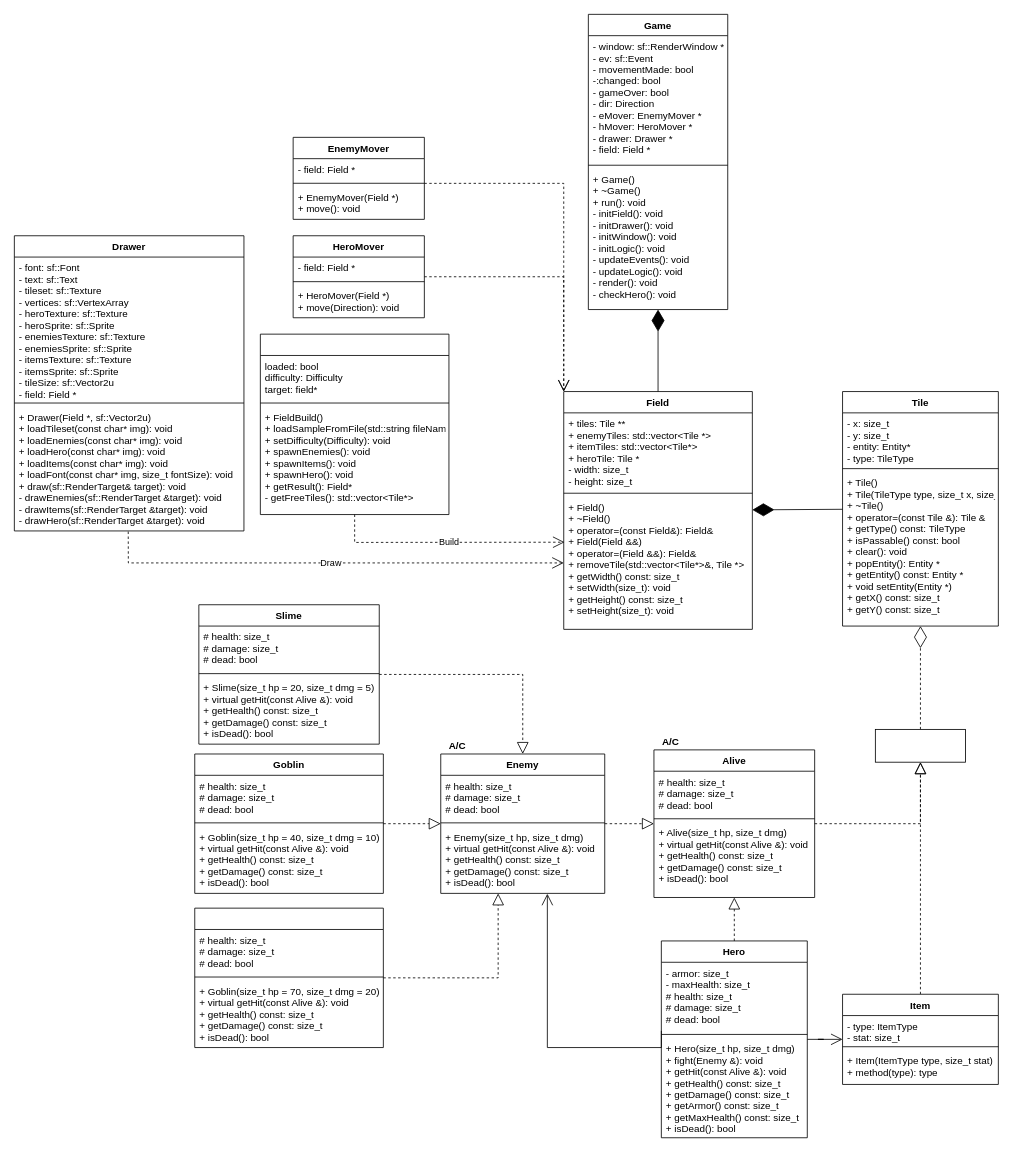
The diagram is 1027 pixels wide and 1155 high, and some of its shapes have lost their labels. The box of each missing label's shape, as (x1, y1, x2, y2) in pixels:
FieldBuilder: (260, 333, 449, 515)
Troll: (194, 907, 383, 1048)
«interface» Entity: (875, 729, 966, 762)
